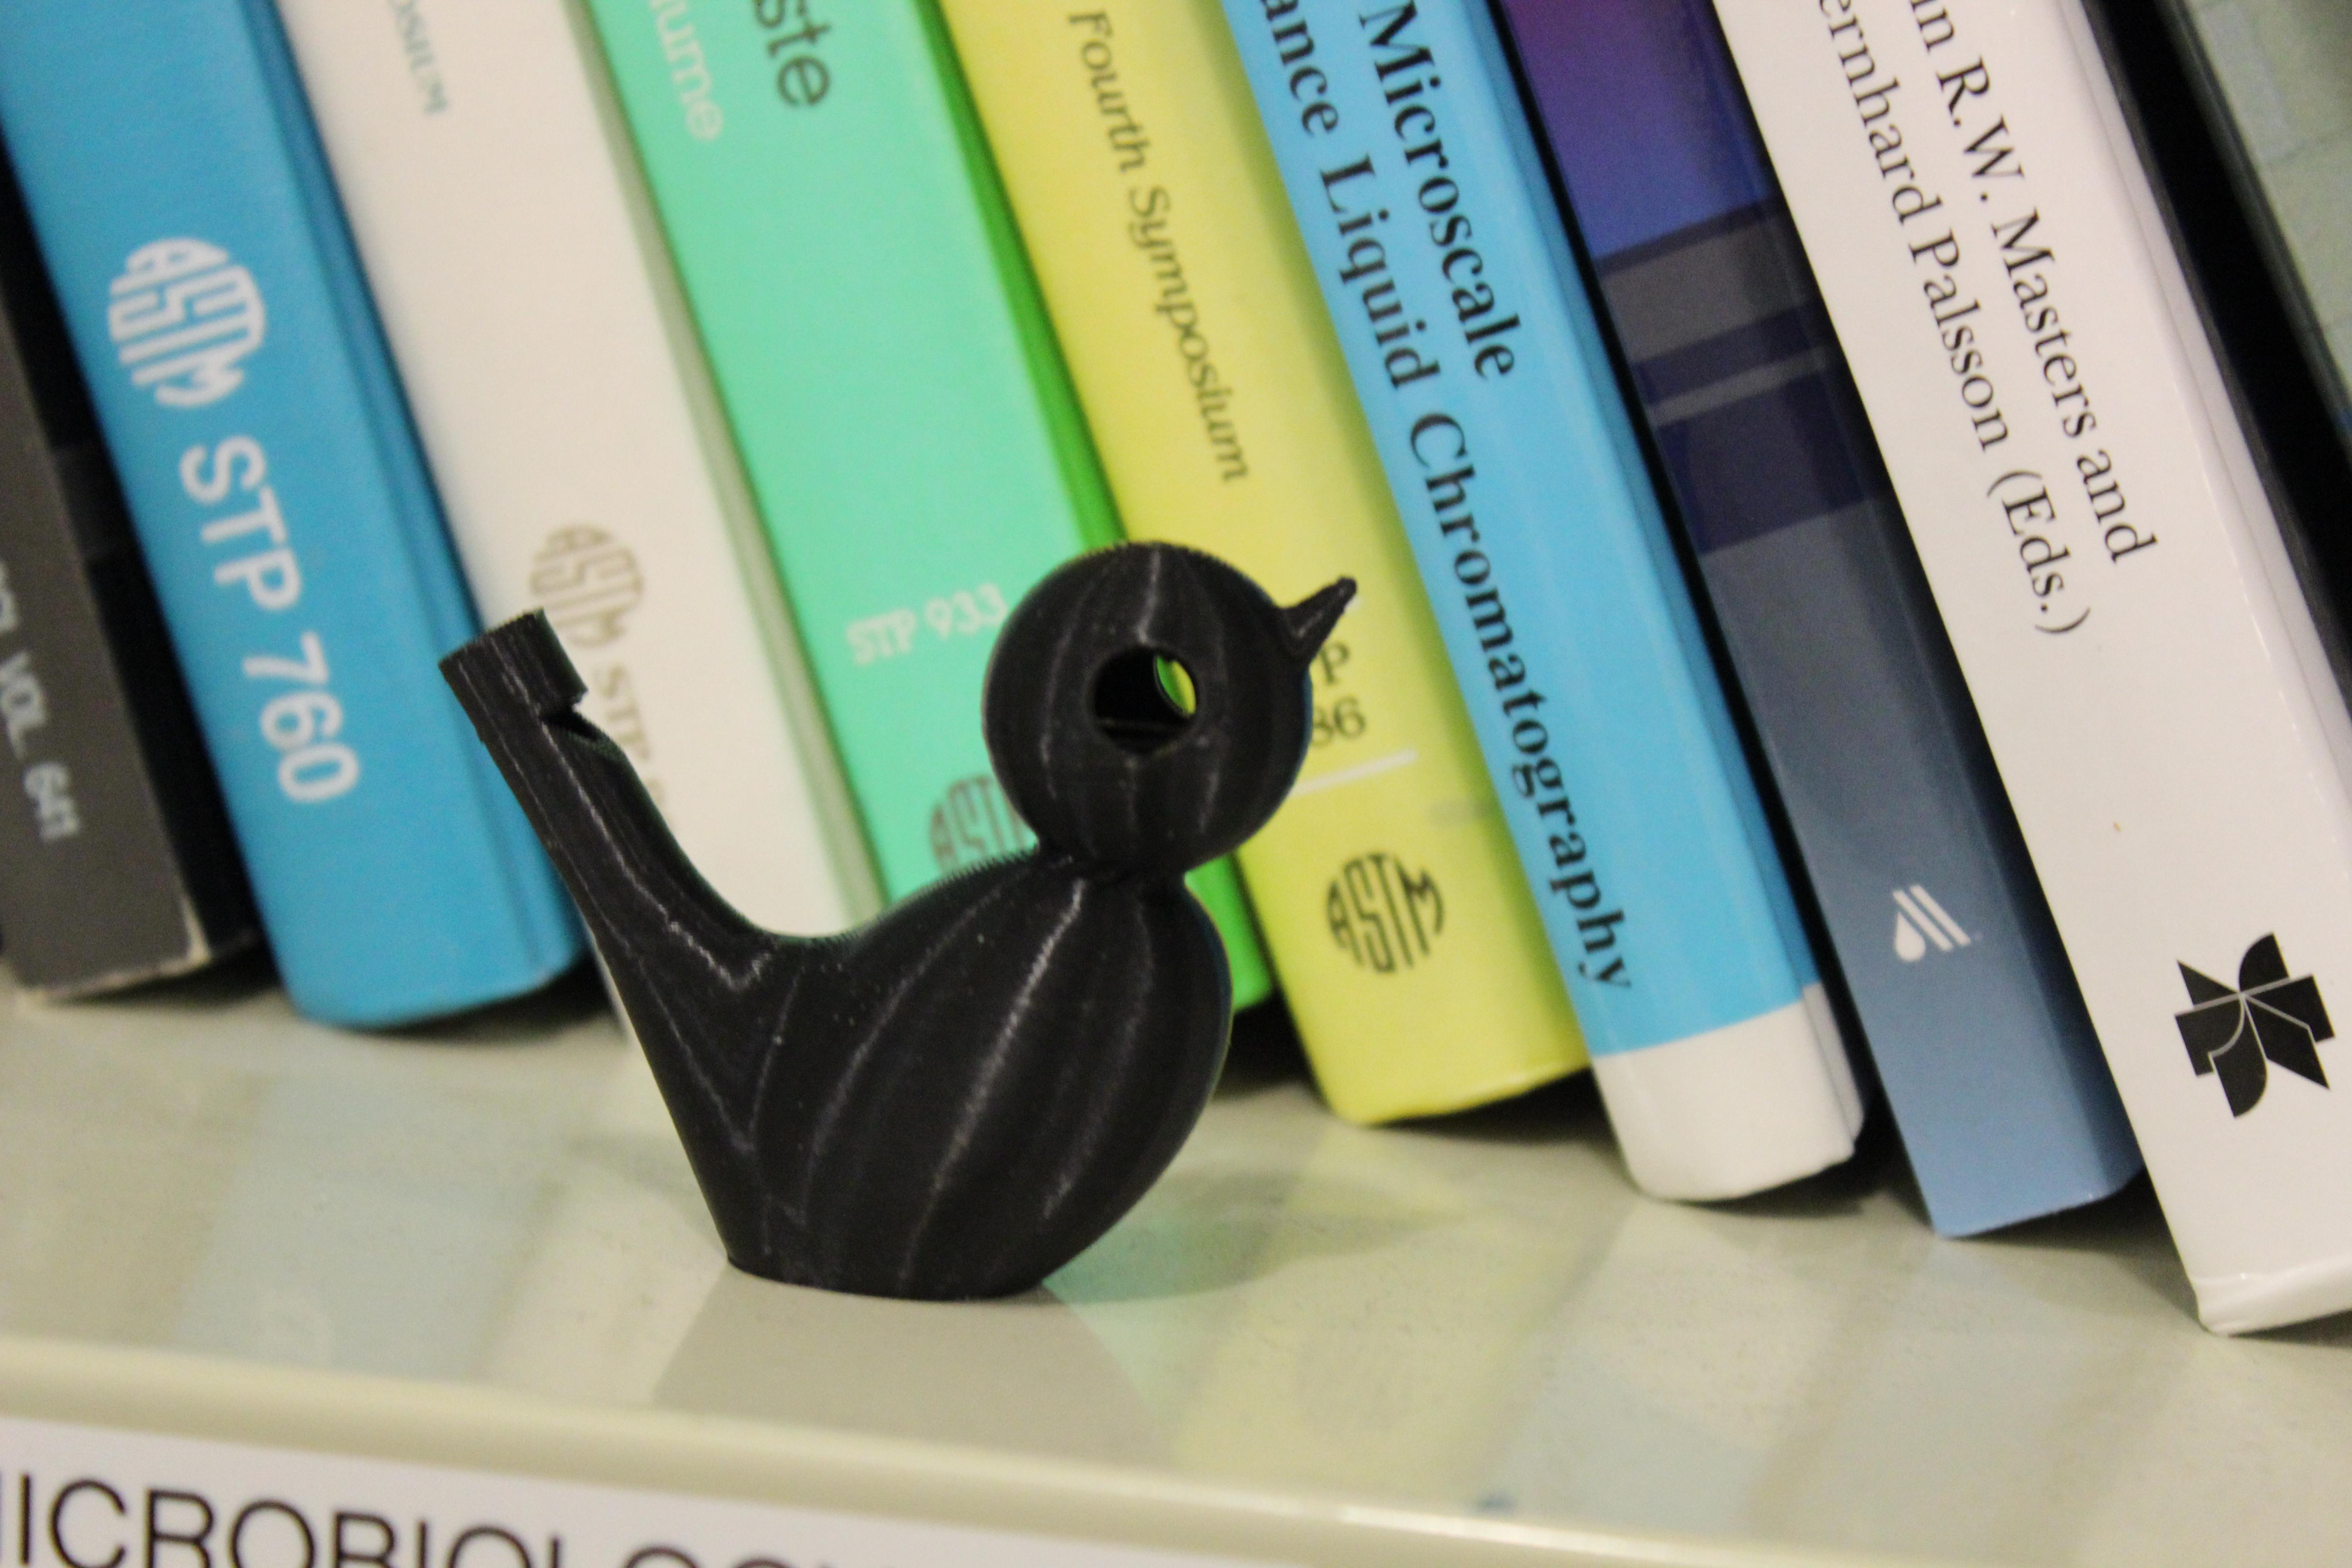birdCall: (385, 506, 1456, 1374)
